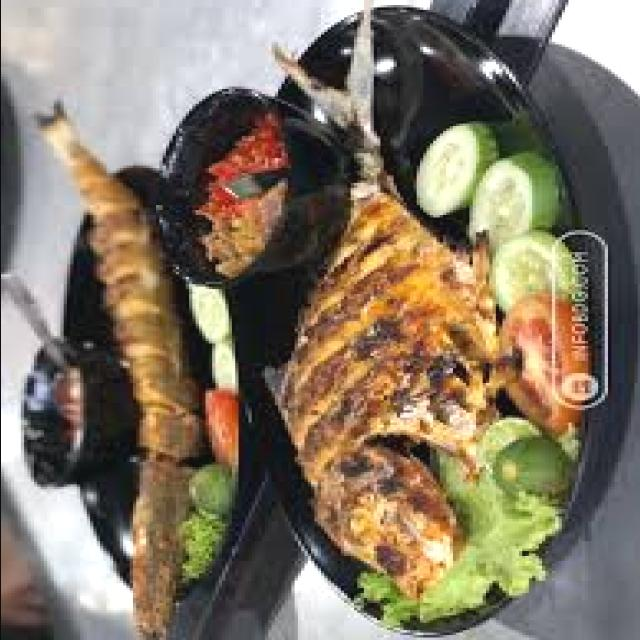ikan bakar: (277, 151, 501, 598)
